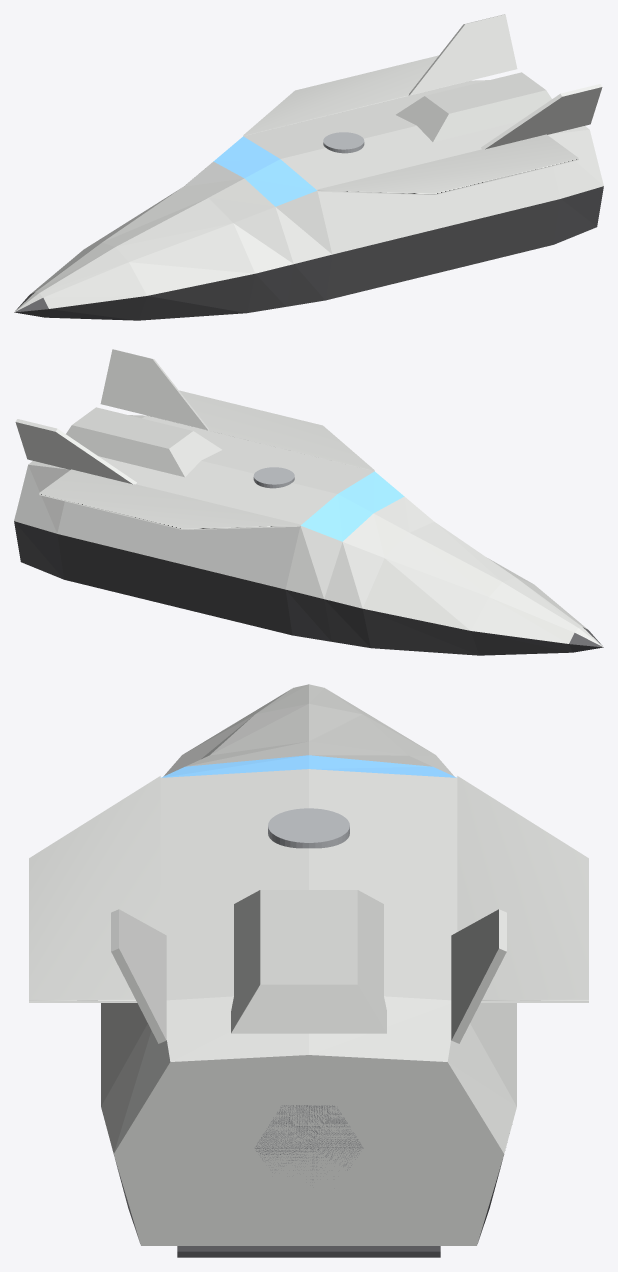
The model's file is _tmp_B3_deployed.glb.
The picture shows the model from 3 angles, top to bottom: view 1: azimuth 30°, elevation 25°; view 2: azimuth 150°, elevation 25°; view 3: azimuth 270°, elevation 25°; orthographic projection. The views are drawn at different scales.
Parts seen in each view (by area): view 1: hull, belly_tps, wing_in_port, kit_pod, wing_in_stbd, fin_stbd, glazing, fin_port, hatch_trunk; view 2: hull, belly_tps, wing_in_stbd, kit_pod, wing_in_port, fin_port, glazing, fin_stbd, hatch_trunk; view 3: hull, kit_pod, wing_in_stbd, wing_in_port, fin_stbd, fin_port, glazing, body_flap, hatch_trunk, torch_nozzle.
Boxes of the visible parts, bbox=[...] form: hull: bbox=[15, 80, 603, 311]; belly_tps: bbox=[14, 186, 603, 320]; wing_in_port: bbox=[317, 134, 578, 194]; kit_pod: bbox=[396, 72, 551, 142]; wing_in_stbd: bbox=[243, 55, 471, 136]; fin_stbd: bbox=[408, 14, 517, 95]; glazing: bbox=[213, 136, 316, 206]; fin_port: bbox=[481, 84, 602, 149]; hatch_trunk: bbox=[323, 132, 364, 153]; hull: bbox=[14, 415, 602, 646]; belly_tps: bbox=[14, 521, 603, 655]; wing_in_stbd: bbox=[39, 469, 300, 529]; kit_pod: bbox=[66, 407, 221, 477]; wing_in_port: bbox=[146, 390, 374, 471]; fin_port: bbox=[100, 349, 209, 430]; glazing: bbox=[301, 471, 404, 541]; fin_stbd: bbox=[15, 419, 136, 484]; hatch_trunk: bbox=[253, 467, 294, 488]; hull: bbox=[101, 684, 516, 1245]; kit_pod: bbox=[231, 890, 386, 1033]; wing_in_stbd: bbox=[457, 776, 588, 1002]; wing_in_port: bbox=[29, 776, 160, 1002]; fin_stbd: bbox=[451, 909, 506, 1043]; fin_port: bbox=[111, 909, 166, 1043]; glazing: bbox=[161, 755, 456, 777]; body_flap: bbox=[177, 1246, 440, 1257]; hatch_trunk: bbox=[268, 808, 349, 848]; torch_nozzle: bbox=[255, 1105, 363, 1179].
Size of the model in its own units: 12.8 by 3.48 by 5.73.
